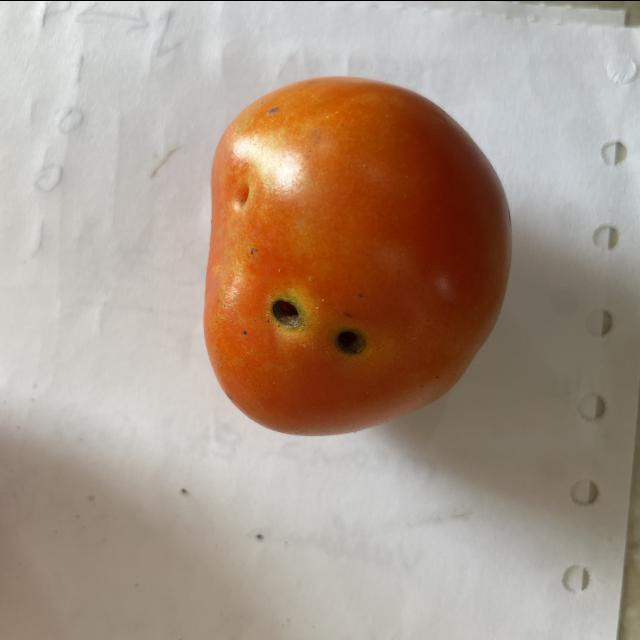fruitworm_bore: (262, 289, 378, 355)
